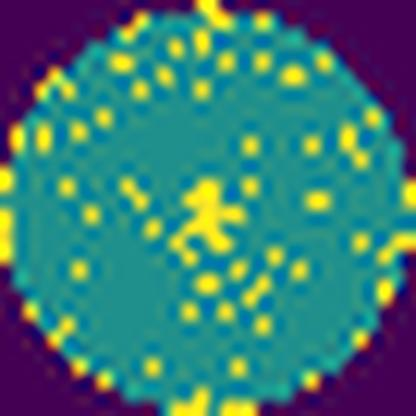Center: (181, 180, 230, 253)
